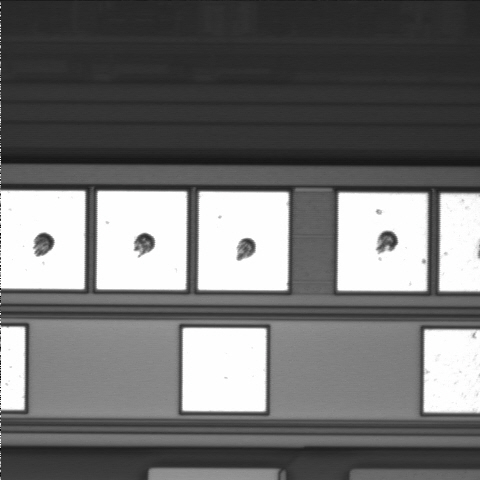pad: (97, 191, 187, 290), (198, 192, 288, 290), (338, 193, 427, 291), (183, 328, 266, 411)
